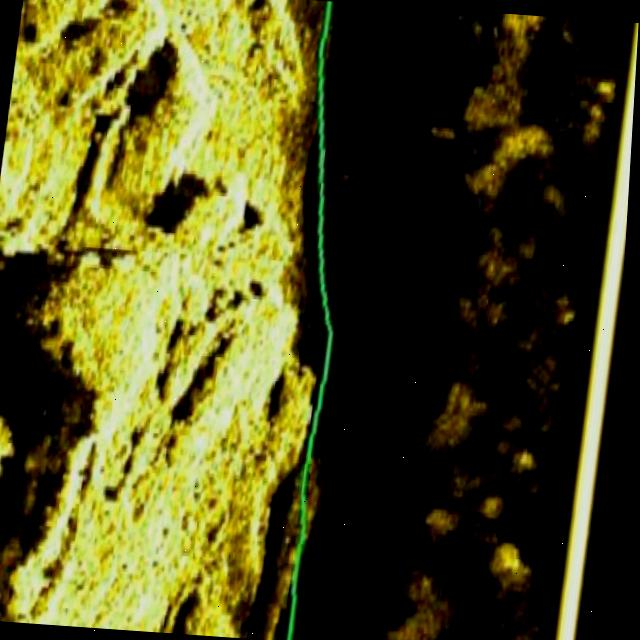bedrock group: (0, 0, 379, 639)
